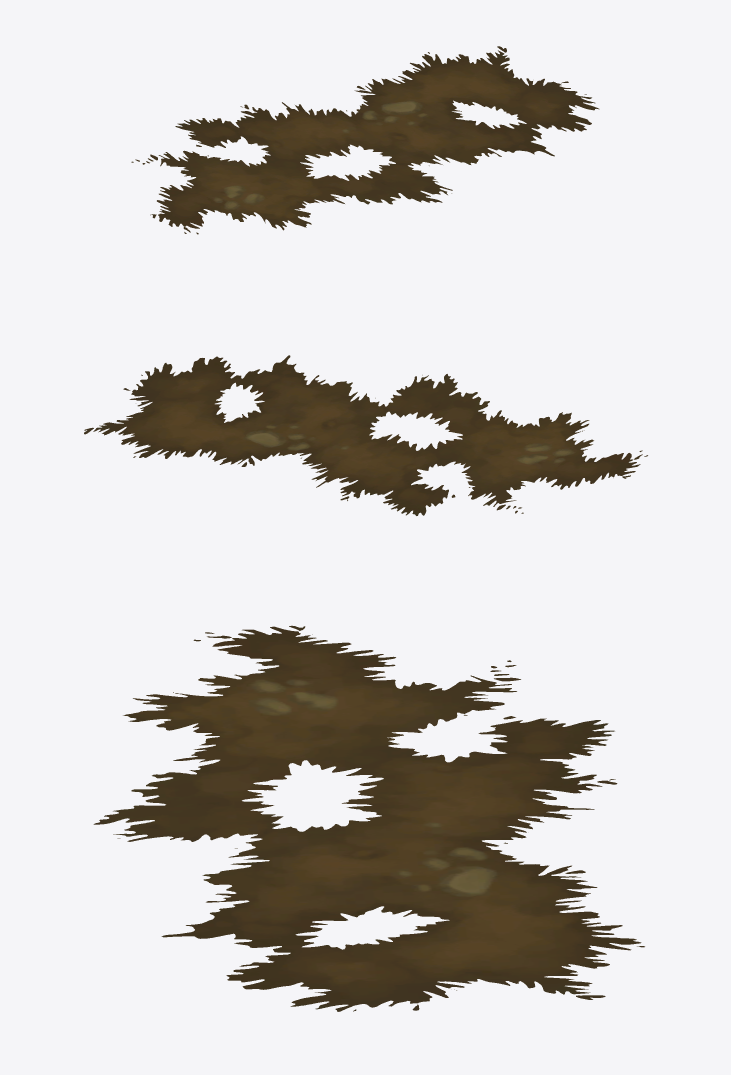
The model's file is rockydecal_02.fbx.
The picture shows the model from 3 angles, top to bottom: view 1: azimuth 30°, elevation 25°; view 2: azimuth 150°, elevation 25°; view 3: azimuth 270°, elevation 25°; orthographic projection. The views are drawn at different scales.
Visible parts, largest first — view 1: obj0.006; view 2: obj0.006; view 3: obj0.006.
Boxes of the visible parts, x1,y1,x2,y2 form: obj0.006: (131,46,599,234); obj0.006: (84,355,647,515); obj0.006: (93,625,644,1011).
Size of the model in its own units: 11.48 by 2.32e-06 by 7.23.
